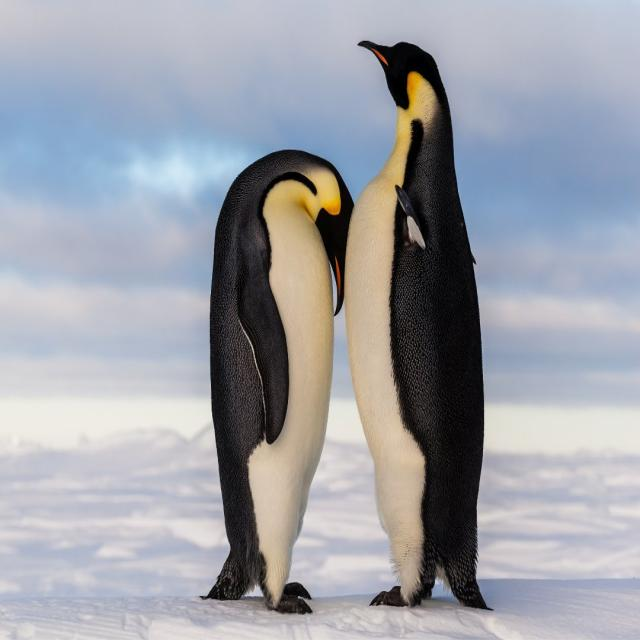penguin: (345, 42, 484, 608), (207, 150, 353, 613)
